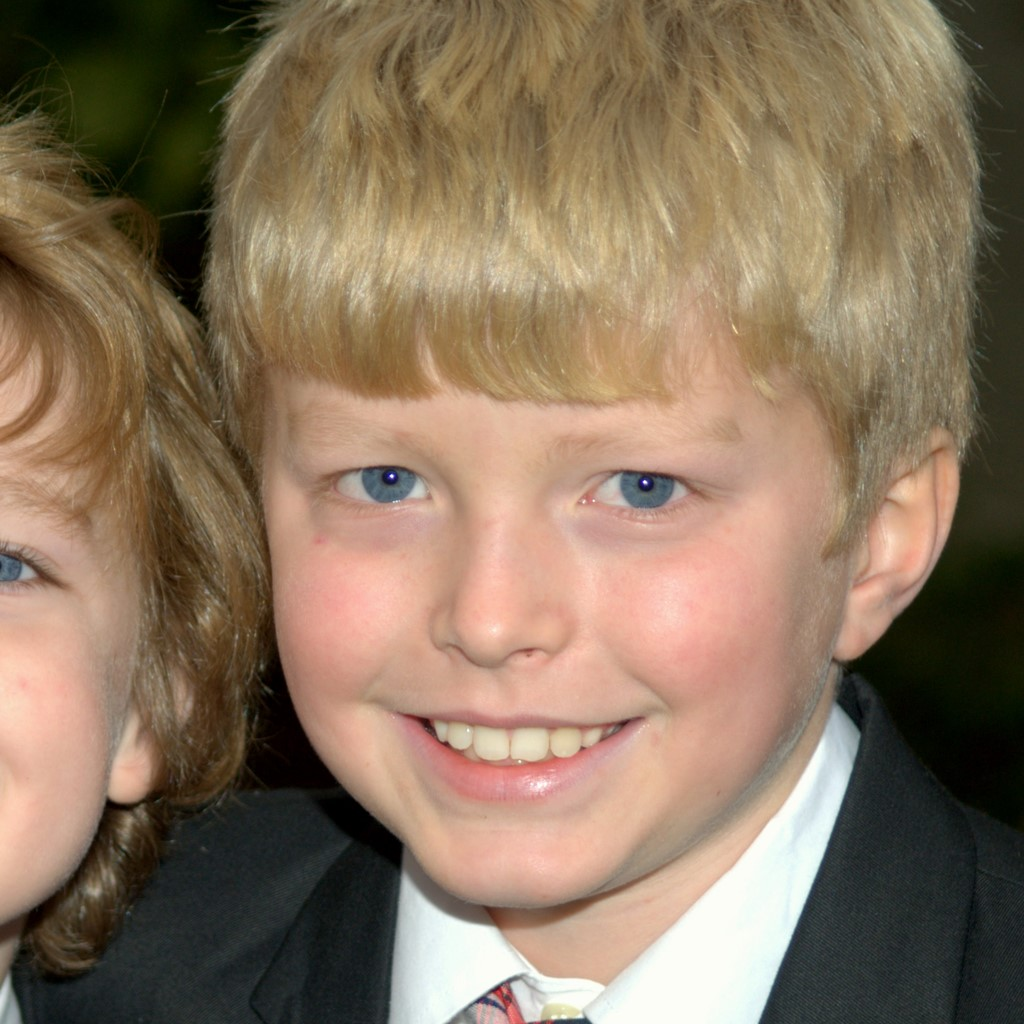sin_mascara: (274, 203, 852, 927)
